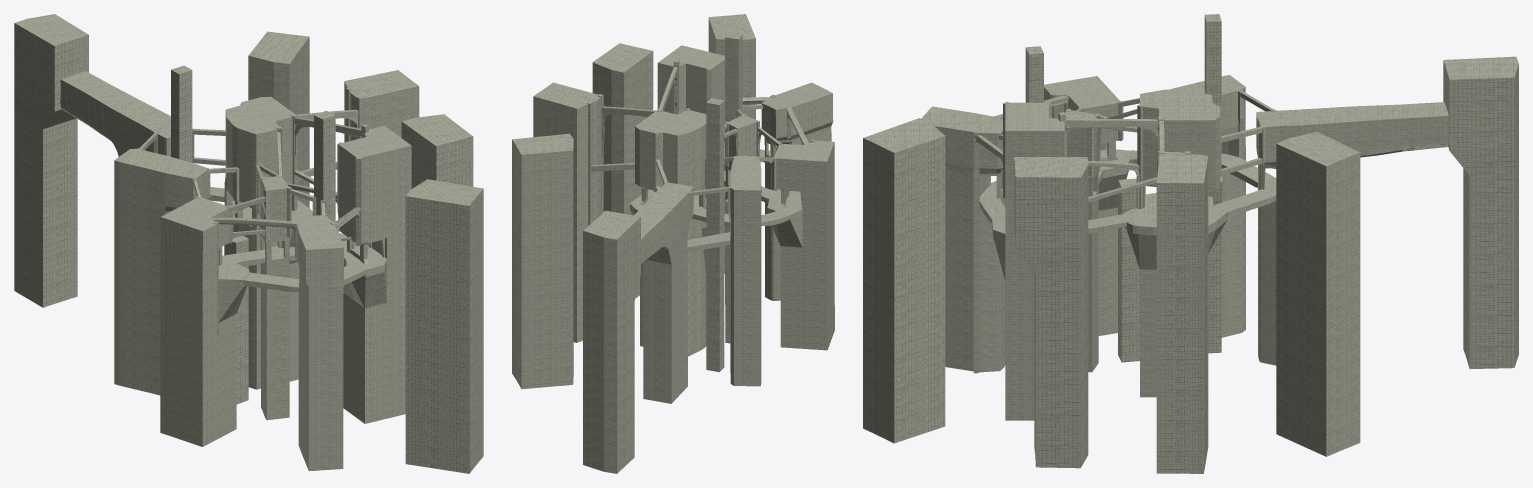
File: SM_Corridor_03_00.fbx
3 renders of one model, left to right at view 1: azimuth 30°, elevation 25°; view 2: azimuth 150°, elevation 25°; view 3: azimuth 270°, elevation 25°, orthographic. The views are drawn at different scales.
Visible parts, largest first — view 1: SM_Corridor_03_00; view 2: SM_Corridor_03_00; view 3: SM_Corridor_03_00.
Boxes of the visible parts, bbox=[...] form: SM_Corridor_03_00: bbox=[14, 14, 483, 473]; SM_Corridor_03_00: bbox=[512, 14, 834, 473]; SM_Corridor_03_00: bbox=[863, 14, 1518, 473].
Size of the model in its own units: 8733 by 9204 by 15929.
